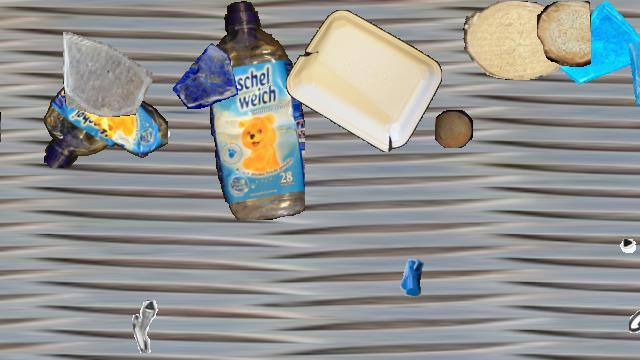glass: (63, 27, 153, 117), (560, 1, 640, 91), (172, 42, 238, 108), (622, 43, 640, 115)
metal: (233, 98, 293, 158), (382, 246, 440, 304), (583, 199, 640, 257), (132, 299, 186, 353), (134, 100, 174, 140), (629, 297, 640, 349)
plastic: (286, 10, 442, 152), (210, 1, 304, 219), (42, 77, 168, 167)
wood: (463, 1, 569, 79), (537, 1, 591, 67), (435, 110, 473, 148), (0, 72, 1, 178)
